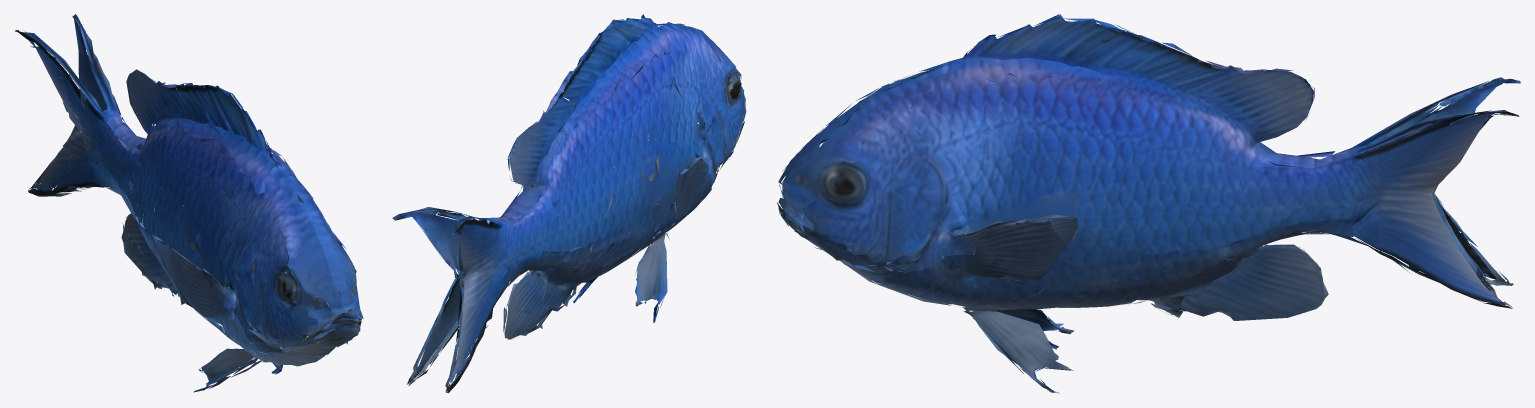
Rendered from chromis.glb.
3 renders of one model, left to right at view 1: azimuth 30°, elevation 25°; view 2: azimuth 150°, elevation 25°; view 3: azimuth 270°, elevation 25°, orthographic. The views are drawn at different scales.
Parts seen in each view (by area): view 1: chromis.001; view 2: chromis.001; view 3: chromis.001.
Part boxes in pixels (x1,y1,x2,y2): chromis.001: (15,14,363,392); chromis.001: (392,14,746,393); chromis.001: (777,14,1520,393).
Bounding box in the file's own units: 0.2815 × 0.5316 × 1.
1 material, 1 textured.
